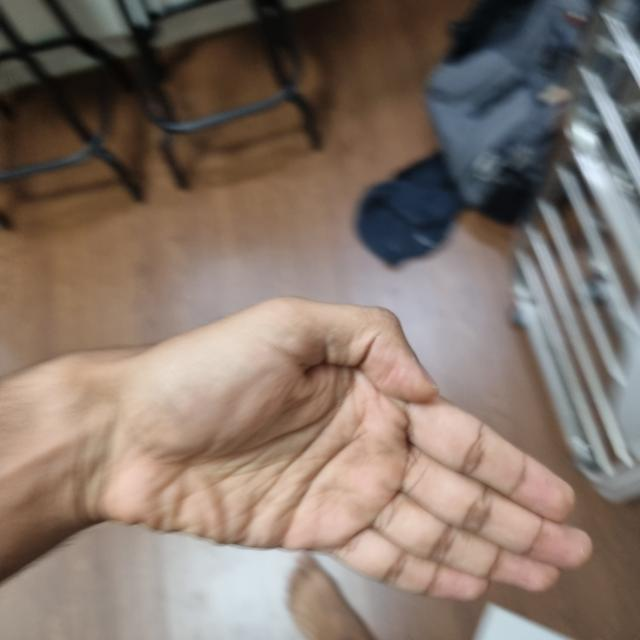Paper: (292, 381, 589, 605)
